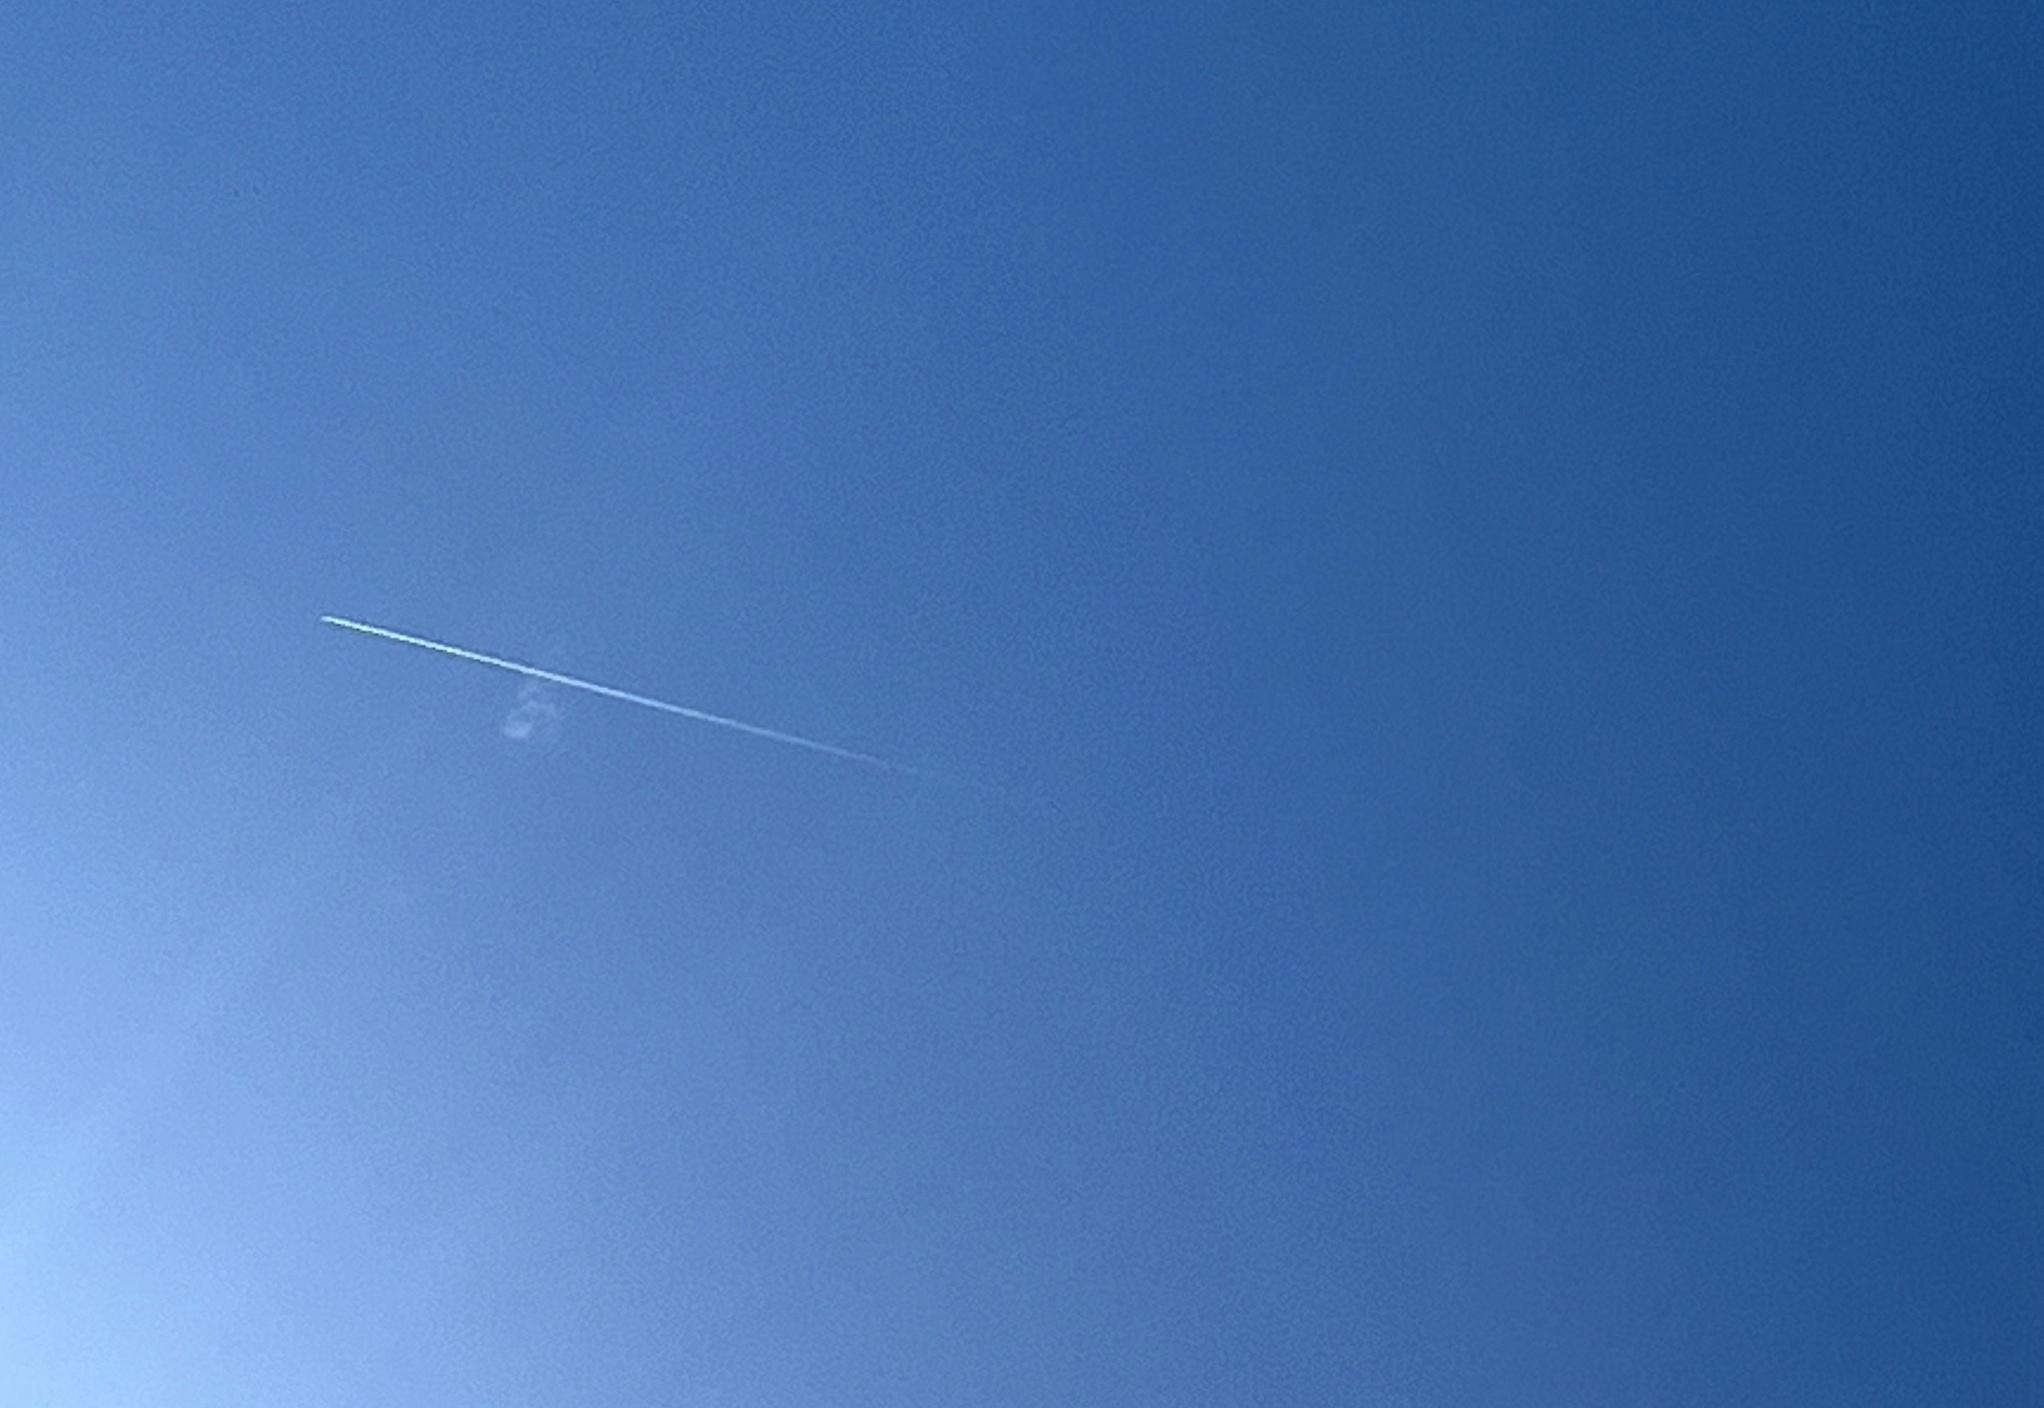Plane: (297, 590, 935, 770)
